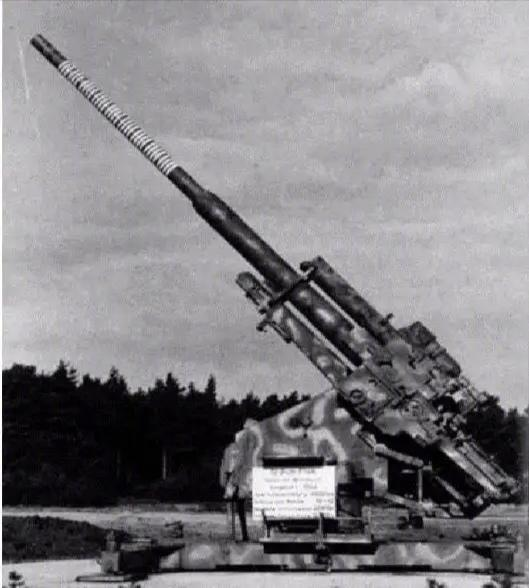MIL_SPG: (31, 34, 517, 517)
